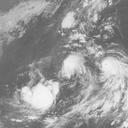cyclone: (21, 82, 57, 113), (100, 57, 125, 83), (61, 54, 85, 79)
